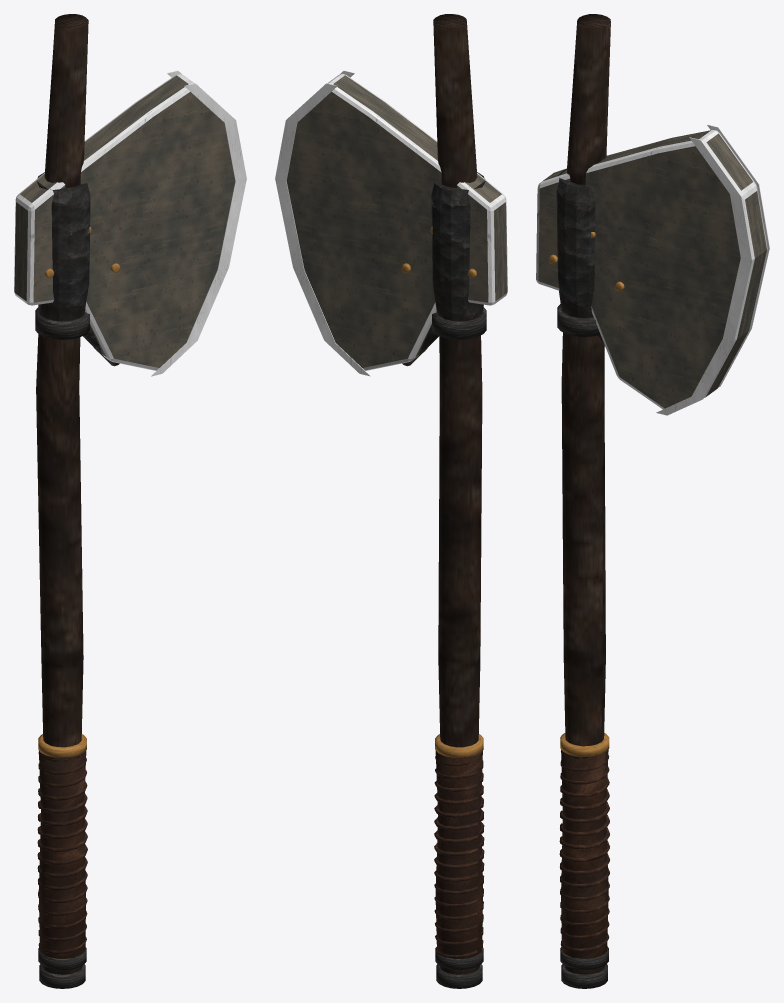
The model's file is grave_bardiche.glb.
The picture shows the model from 3 angles, left to right: view 1: azimuth 30°, elevation 25°; view 2: azimuth 150°, elevation 25°; view 3: azimuth 330°, elevation 25°; orthographic projection.
Visible parts, largest first — view 1: Shaped bearded axe head.005, Straight palm shaft and tapered ironwood.008, Bound palm grip.017, Swaged head socket.008, Honed cutting cheek.010, Continuous bound leather seam.017, Shaft collar.002, Socketed pommel ferrule.008, Grip forward ferrule.017, Grip rear ferrule.017; view 2: Shaped bearded axe head.005, Straight palm shaft and tapered ironwood.008, Bound palm grip.017, Swaged head socket.008, Continuous bound leather seam.017, Honed cutting cheek.011, Shaft collar.002, Socketed pommel ferrule.008, Grip forward ferrule.017, Grip rear ferrule.017; view 3: Shaped bearded axe head.005, Straight palm shaft and tapered ironwood.008, Bound palm grip.017, Swaged head socket.008, Continuous bound leather seam.017, Honed cutting cheek.010, Honed cutting cheek.011, Shaft collar.002, Socketed pommel ferrule.008, Grip forward ferrule.017, Grip rear ferrule.017.
Boxes of the visible parts, box(x1,y1,x2,y2) form: Shaped bearded axe head.005: box(14, 74, 235, 370); Straight palm shaft and tapered ironwood.008: box(36, 14, 88, 974); Bound palm grip.017: box(38, 750, 86, 959); Swaged head socket.008: box(37, 172, 90, 321); Honed cutting cheek.010: box(151, 83, 246, 376); Continuous bound leather seam.017: box(37, 752, 87, 954); Shaft collar.002: box(35, 307, 89, 339); Socketed pommel ferrule.008: box(39, 964, 85, 988); Grip forward ferrule.017: box(38, 734, 86, 757); Grip rear ferrule.017: box(38, 947, 86, 969); Shaped bearded axe head.005: box(286, 74, 507, 370); Straight palm shaft and tapered ironwood.008: box(433, 14, 482, 974); Bound palm grip.017: box(435, 750, 482, 958); Swaged head socket.008: box(431, 172, 485, 320); Continuous bound leather seam.017: box(434, 751, 484, 958); Honed cutting cheek.011: box(275, 83, 370, 376); Shaft collar.002: box(432, 307, 486, 339); Socketed pommel ferrule.008: box(436, 964, 482, 988); Grip forward ferrule.017: box(435, 734, 483, 757); Grip rear ferrule.017: box(435, 947, 483, 969); Shaped bearded axe head.005: box(536, 130, 767, 409); Straight palm shaft and tapered ironwood.008: box(561, 14, 610, 974); Bound palm grip.017: box(561, 749, 608, 958); Swaged head socket.008: box(556, 169, 595, 317); Continuous bound leather seam.017: box(559, 750, 609, 953); Honed cutting cheek.010: box(656, 137, 752, 415); Honed cutting cheek.011: box(707, 124, 769, 387); Shaft collar.002: box(557, 304, 600, 336); Socketed pommel ferrule.008: box(561, 964, 607, 988); Grip forward ferrule.017: box(560, 733, 609, 756); Grip rear ferrule.017: box(560, 947, 608, 969).
Size of the model in its own units: 0.4249 by 1.79 by 0.0966.
Materials: 6 (6 with a texture image).
